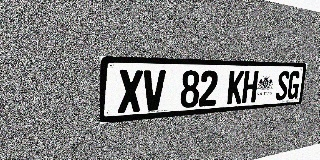2: (199, 70, 218, 107)
8: (180, 70, 201, 108)
G: (286, 71, 301, 100)
H: (242, 71, 259, 103)
K: (227, 71, 245, 104)
S: (275, 71, 290, 101)
V: (142, 70, 166, 111)
X: (118, 70, 143, 113)
